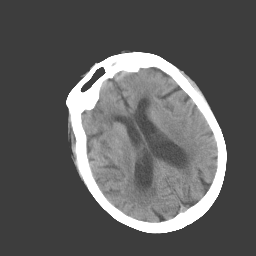ischemic: (94, 104, 135, 200)
